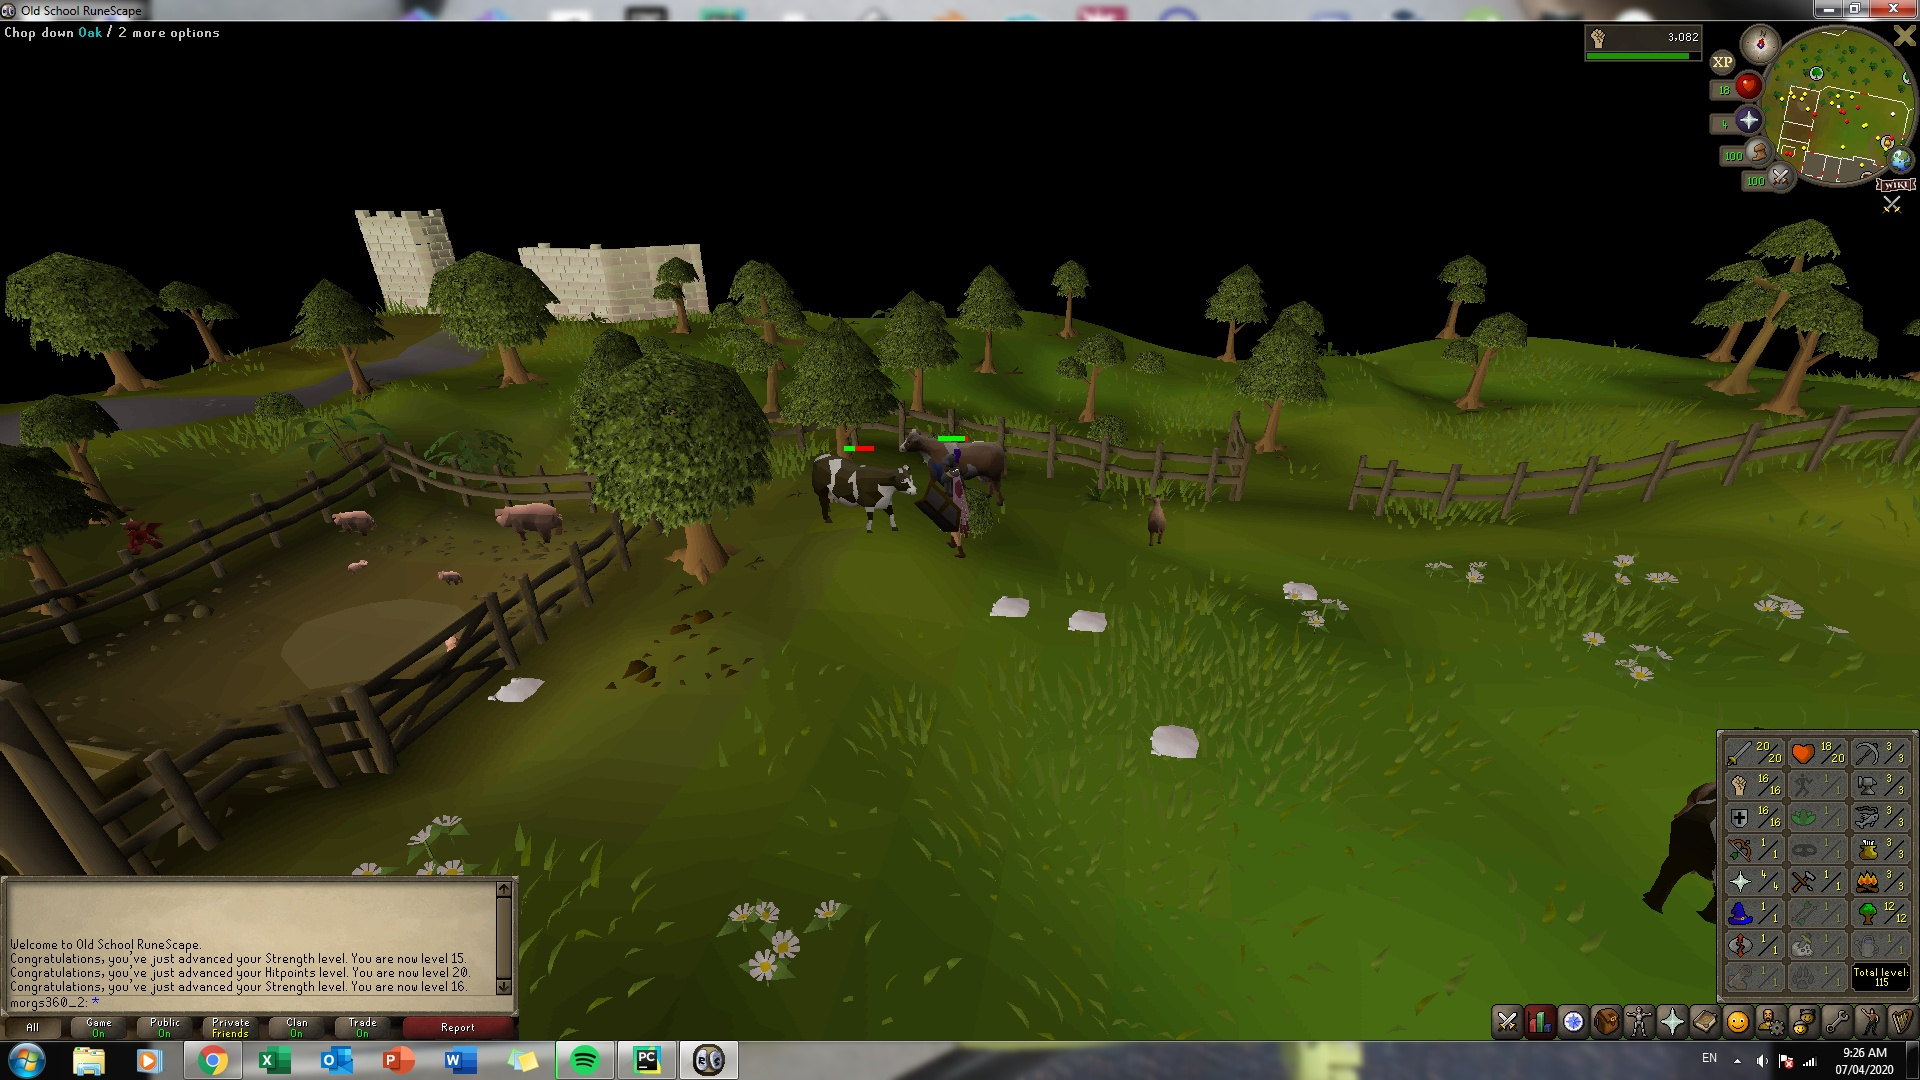cow: (1644, 773, 1712, 930), (805, 451, 917, 535), (900, 432, 1007, 511), (1144, 494, 1169, 553)
player: (924, 444, 974, 560)
